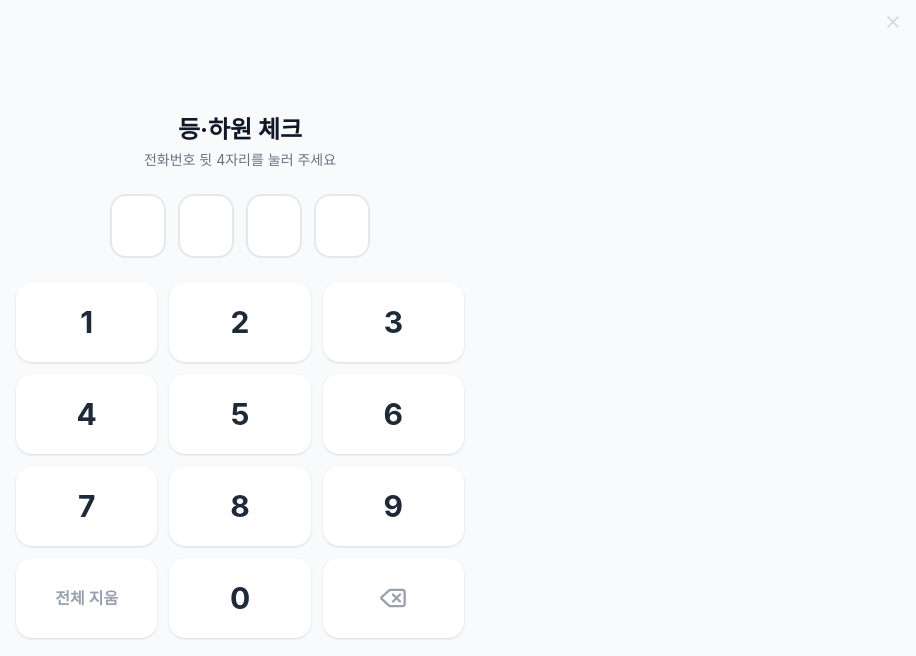
Test: KioskPage › 4자리 입력 시 조회하고, 학생 카드에서 등원 처리까지 이어진다
Click the button "6" at (393, 414), box [323,374,464,454]
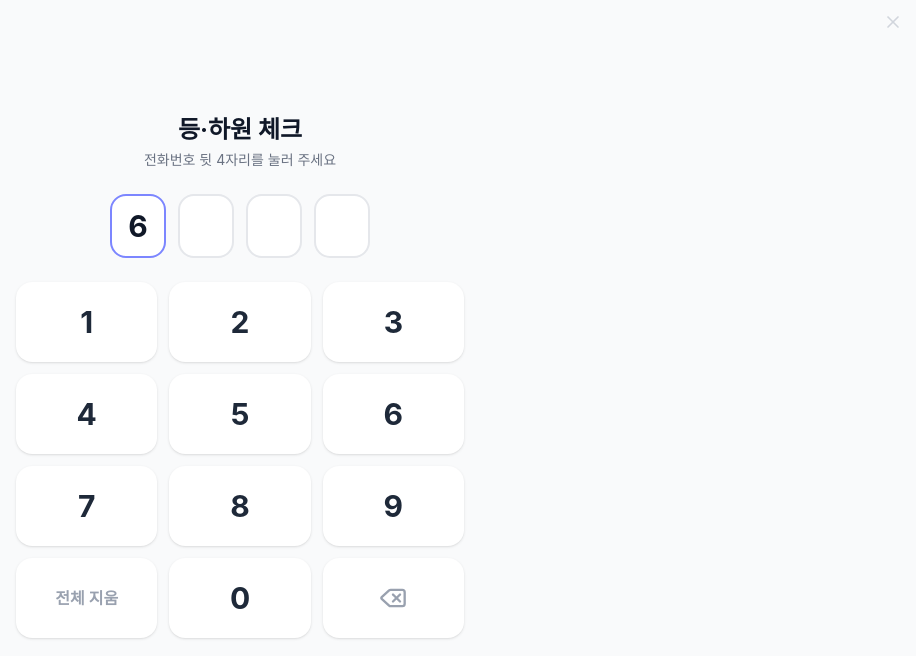
Click the button "9" at (393, 506), box [323,466,464,546]
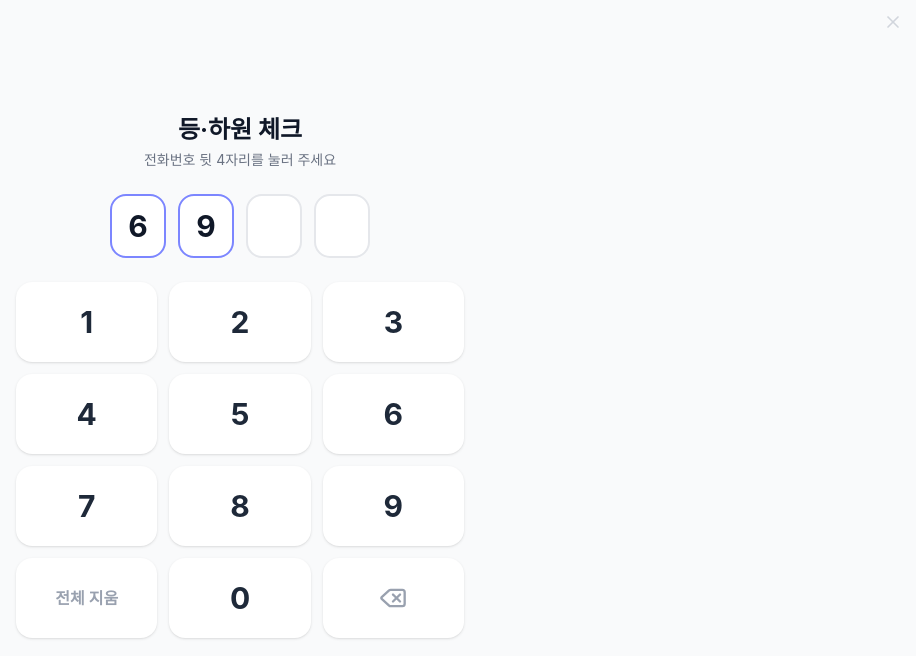
Click the button "2" at (240, 322), box [169,282,311,362]
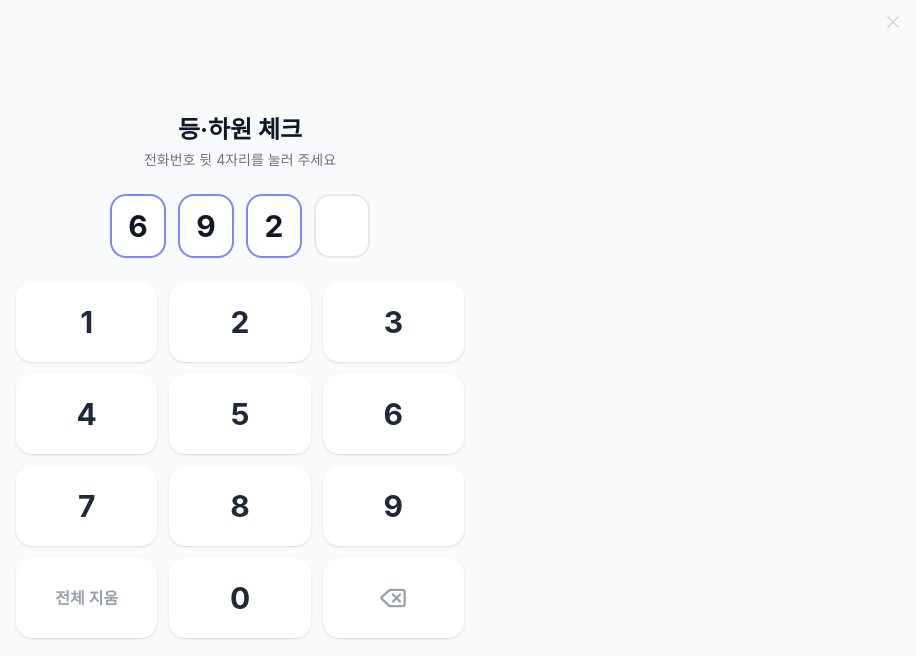
Click the button "0" at (240, 598), box [169,558,311,638]
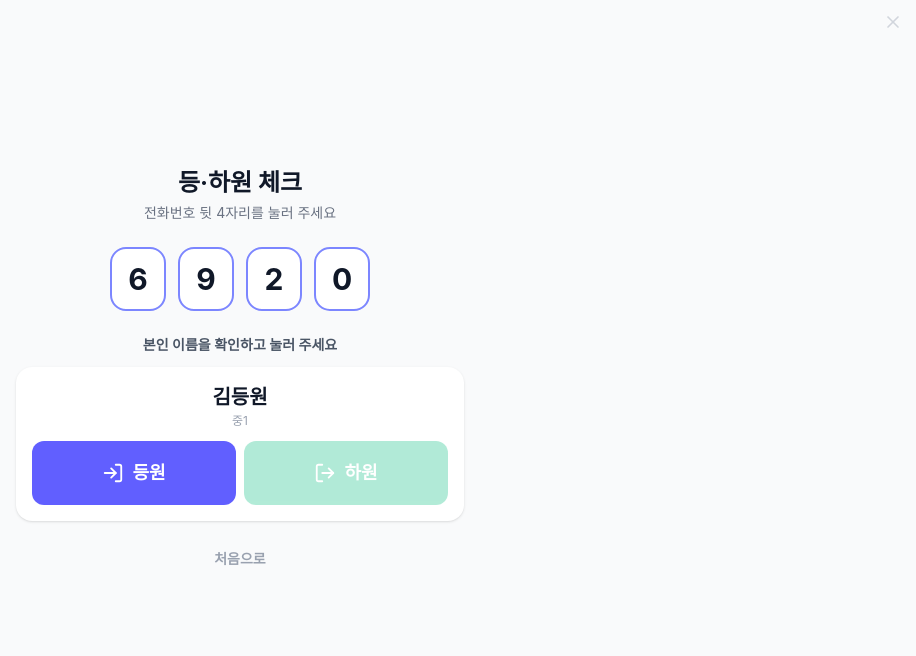
Expected: the text "김등원" is shown, [212,385,268,409]
Click the button "등원" at (134, 473), box [32,441,236,505]
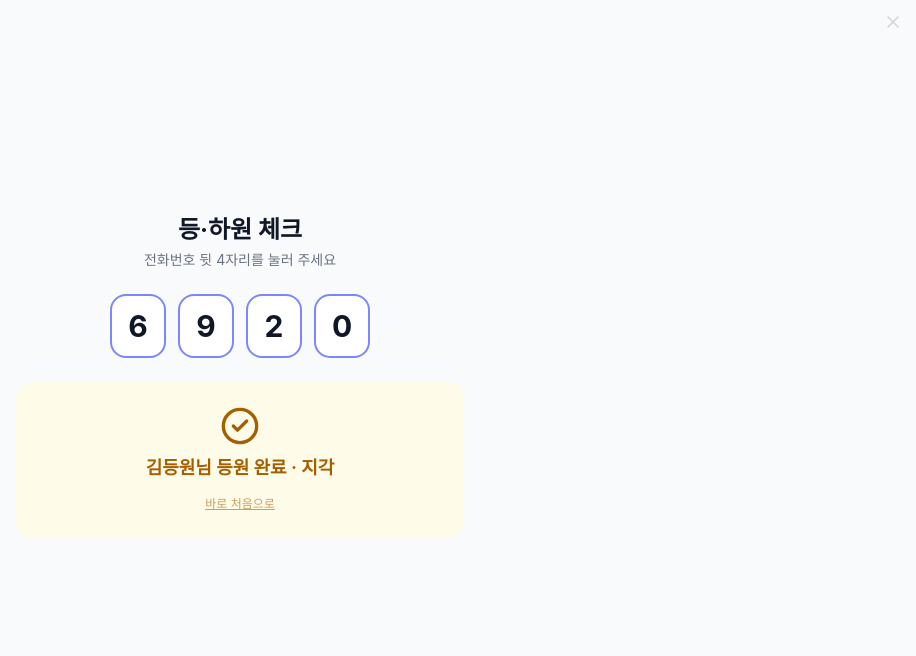
Expected: the text "김등원님 등원 완료 · 지각" is shown, [146,457,334,478]
